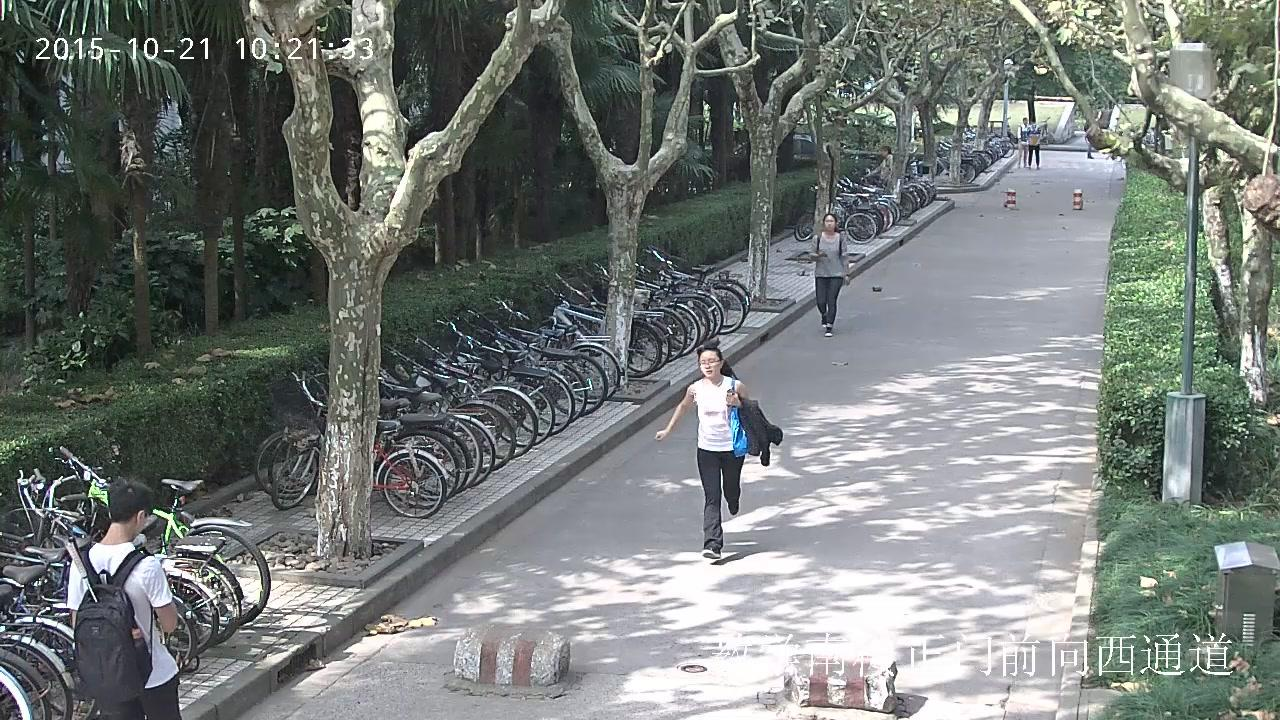face: (700, 350, 719, 377), (825, 215, 834, 230), (881, 148, 885, 156), (1023, 119, 1027, 124), (1031, 120, 1034, 123)
